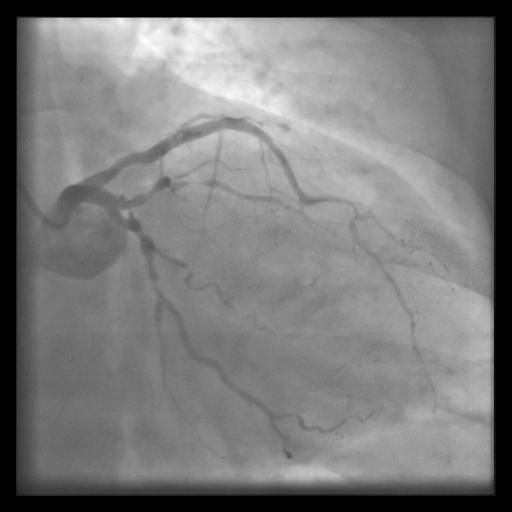Stenosis: (128, 219, 148, 248)
